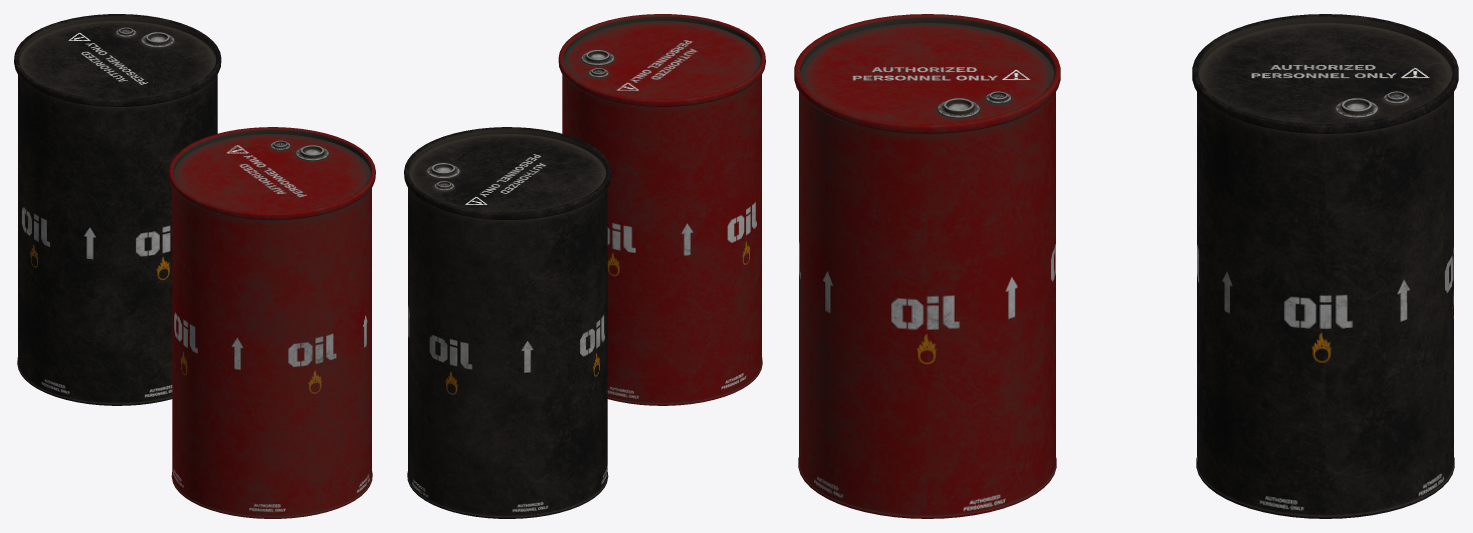
The model's file is oil.glb.
3 views of the same model, side by side, from view 1: azimuth 30°, elevation 25°; view 2: azimuth 150°, elevation 25°; view 3: azimuth 270°, elevation 25° (orthographic). The views are drawn at different scales.
Parts seen in each view (by area): view 1: red, black; view 2: black, red; view 3: black, red.
Boxes of the visible parts, <box> form: red: <box>168,127,375,518</box>; black: <box>14,14,221,405</box>; black: <box>404,127,611,518</box>; red: <box>558,14,765,405</box>; black: <box>1192,14,1458,518</box>; red: <box>794,14,1060,518</box>.
Size of the model in its own units: 0.7261 by 1.18 by 1.81.
1 material, 1 textured.
